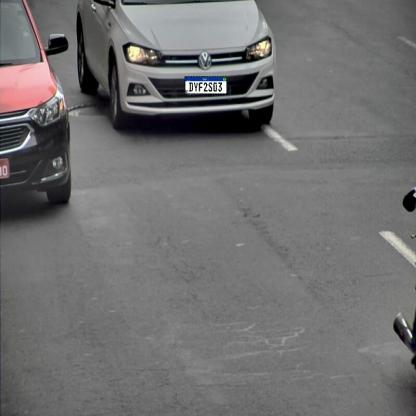PlacaM: (185, 76, 227, 94)
